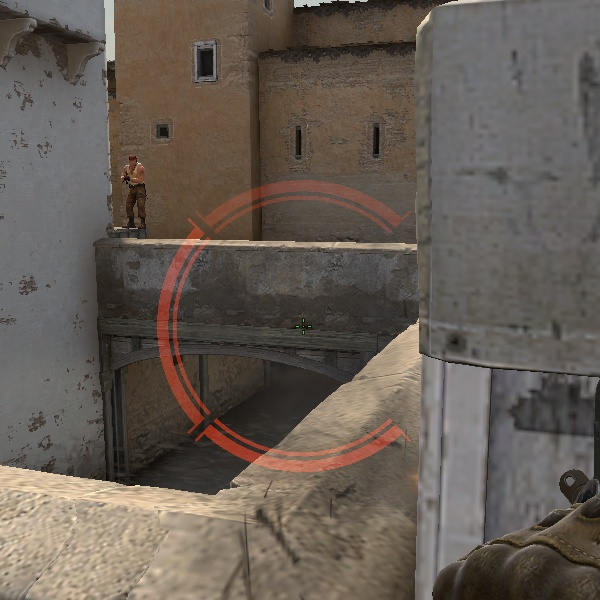t_body: (116, 153, 154, 229)
t_head: (127, 154, 139, 167)
